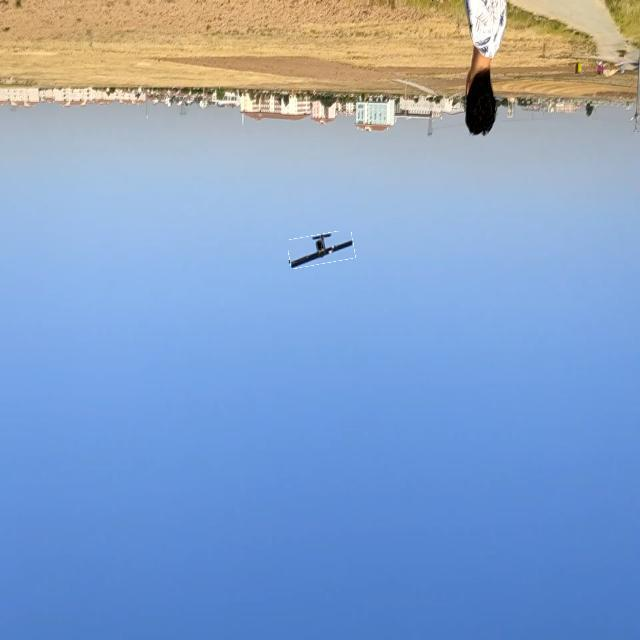UAV: (285, 218, 357, 290)
